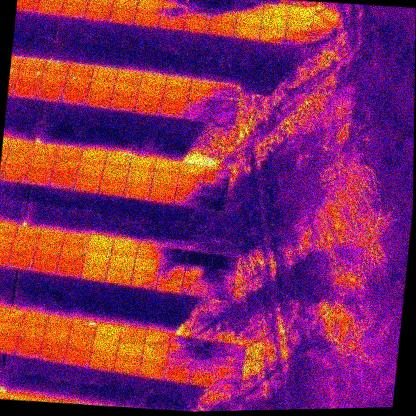Diode: (70, 318, 97, 337)
Hotspot: (64, 74, 91, 93), (60, 246, 88, 264), (18, 56, 47, 73), (42, 59, 70, 76), (215, 82, 241, 100), (15, 70, 43, 86), (62, 233, 90, 249), (213, 96, 239, 111), (164, 0, 190, 5)
Normal: (107, 253, 138, 271), (16, 337, 42, 358), (106, 268, 134, 287), (55, 260, 84, 278), (23, 310, 49, 330), (90, 353, 116, 373), (64, 348, 91, 367), (140, 362, 167, 381), (60, 89, 88, 107), (73, 174, 101, 192), (38, 228, 66, 246), (133, 257, 161, 275), (120, 327, 146, 346), (68, 333, 94, 352), (40, 344, 66, 363), (190, 368, 216, 387), (6, 254, 35, 271), (31, 258, 60, 275), (12, 82, 39, 100), (37, 85, 64, 103), (124, 182, 151, 200), (157, 276, 184, 294), (141, 346, 168, 364), (165, 366, 192, 384), (88, 80, 116, 97), (136, 86, 164, 103), (161, 89, 189, 106), (129, 156, 157, 173), (96, 324, 121, 343), (288, 6, 314, 24), (8, 139, 34, 157), (46, 315, 72, 333), (114, 358, 140, 376), (159, 104, 188, 120), (153, 160, 182, 176), (27, 155, 56, 171), (40, 72, 67, 89), (110, 95, 137, 112), (56, 145, 83, 162), (25, 169, 52, 186), (100, 178, 127, 195), (14, 225, 41, 242), (88, 235, 115, 252), (10, 240, 37, 257), (35, 243, 62, 260), (134, 12, 161, 29), (0, 307, 24, 326), (92, 66, 117, 84), (261, 16, 289, 32), (80, 265, 108, 281), (116, 69, 142, 86), (81, 148, 107, 165), (50, 171, 76, 188), (150, 187, 176, 204), (236, 12, 262, 29), (137, 242, 163, 259), (86, 250, 112, 267), (44, 330, 70, 347), (117, 343, 143, 360), (52, 158, 81, 173), (165, 76, 192, 92), (190, 80, 217, 96), (112, 83, 139, 99), (4, 155, 31, 171), (126, 169, 153, 185), (152, 173, 179, 189), (0, 168, 27, 184), (184, 19, 211, 35), (19, 326, 46, 342), (111, 7, 136, 24), (93, 338, 118, 355), (67, 62, 95, 77), (77, 162, 105, 177), (234, 26, 262, 41), (140, 73, 166, 89), (134, 100, 160, 116), (263, 4, 289, 20), (105, 153, 131, 169), (112, 241, 138, 257), (85, 6, 111, 22), (210, 21, 236, 37), (0, 332, 18, 355), (85, 94, 112, 109), (101, 166, 128, 181), (159, 16, 186, 31), (37, 0, 62, 16), (61, 2, 86, 18), (137, 0, 163, 15), (180, 164, 206, 179), (32, 143, 59, 157), (0, 321, 21, 339), (112, 0, 139, 11), (17, 0, 39, 13), (88, 0, 113, 9), (64, 0, 89, 6), (39, 0, 65, 2)
Shadow: (215, 370, 242, 391), (216, 356, 245, 375), (184, 264, 211, 283), (130, 272, 158, 290), (168, 336, 196, 354), (162, 246, 188, 265), (219, 341, 245, 360), (192, 354, 219, 372), (176, 176, 204, 193), (175, 190, 203, 207), (207, 283, 235, 300), (188, 92, 214, 110), (201, 193, 227, 211), (145, 331, 171, 349), (196, 339, 222, 357), (211, 108, 238, 125), (312, 10, 339, 27), (186, 5, 213, 22), (185, 251, 213, 267), (211, 255, 239, 271), (209, 269, 237, 285), (167, 352, 195, 368), (258, 30, 286, 46), (310, 36, 336, 53), (185, 107, 212, 123), (158, 262, 185, 278), (182, 280, 209, 296), (286, 21, 314, 36), (238, 0, 264, 16), (162, 2, 188, 18), (203, 179, 229, 195), (312, 23, 338, 39), (285, 34, 312, 49), (204, 166, 230, 181), (212, 10, 238, 25), (213, 0, 239, 13), (188, 0, 215, 8)
